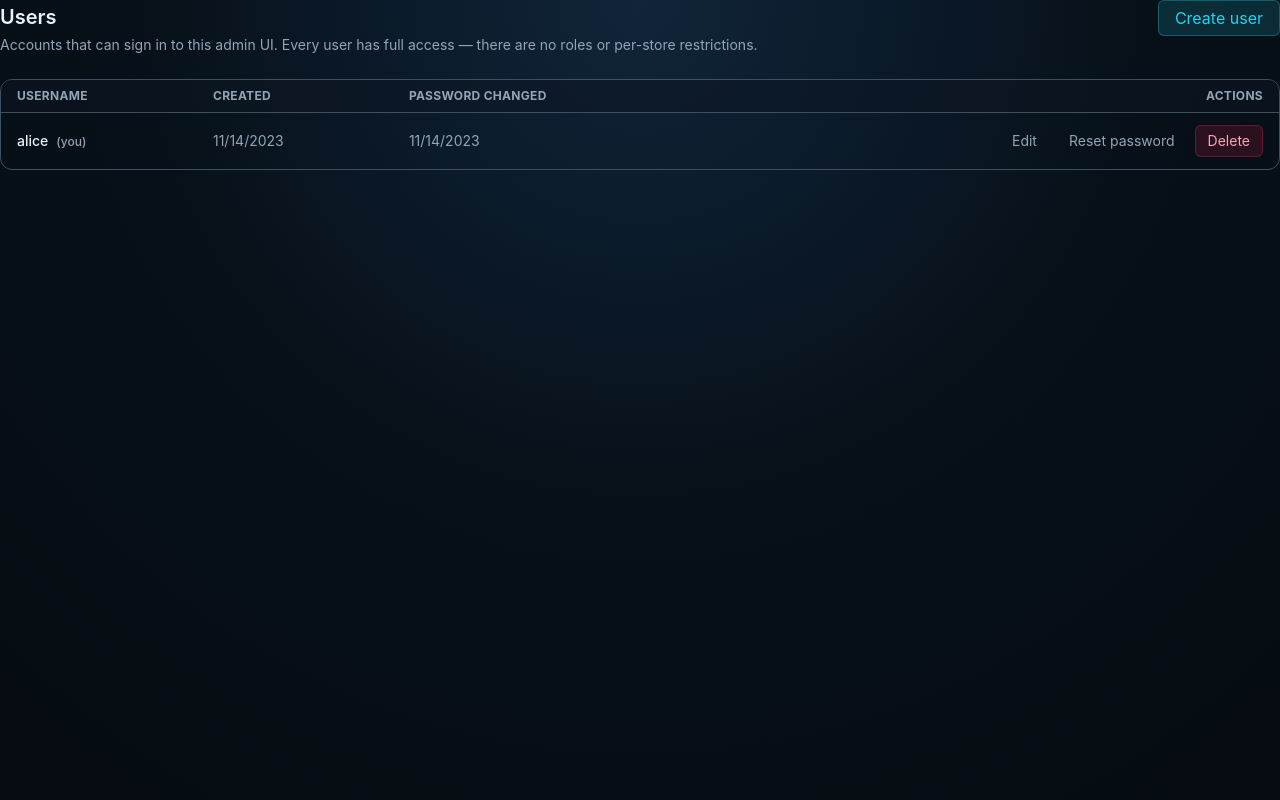
Test: UsersPage › delete dialog disables the destructive button when targeting the last user
Check: the text "alice" is shown, box x1=17 y1=132 x2=48 y2=149
// [Edit, Reset password, Delete]
Click the button "Delete": (1229, 141) x1=1195 y1=125 x2=1263 y2=157
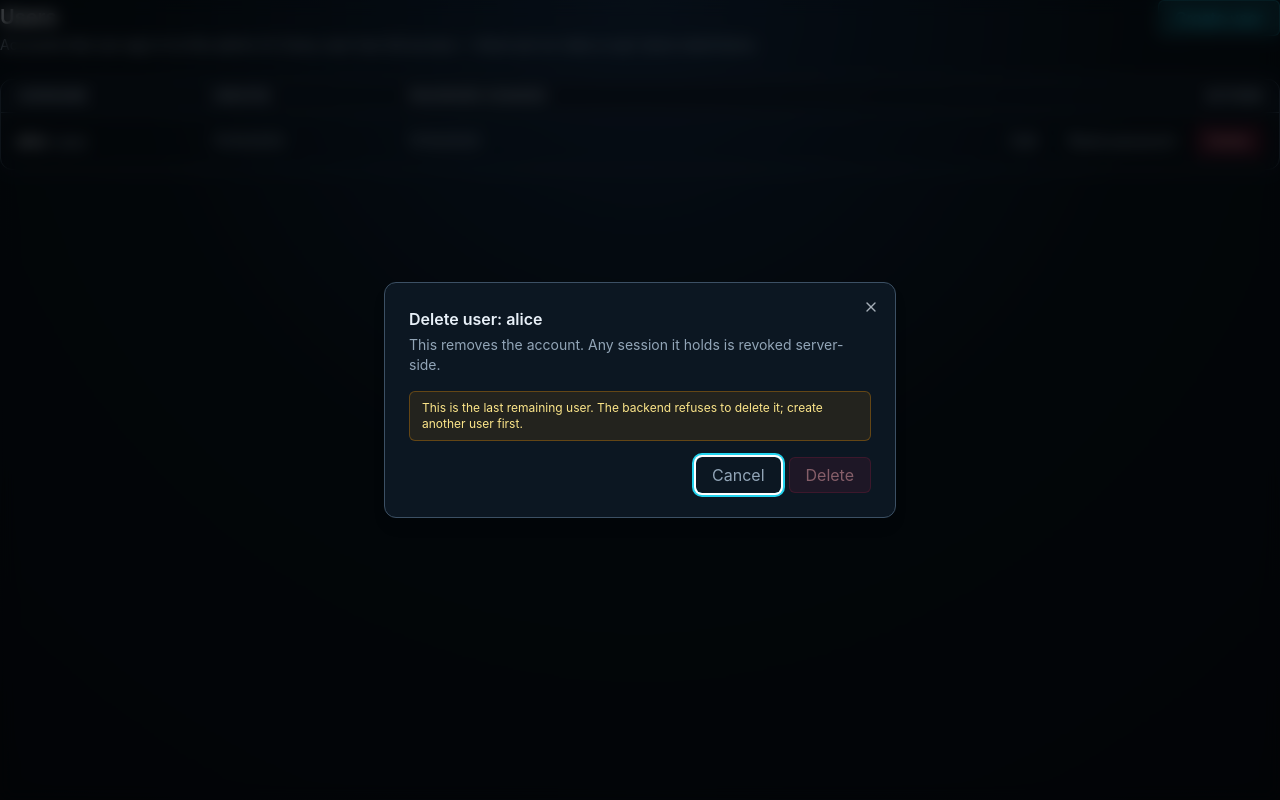
Check: the dialog "Delete user: alice" shows "last remaining user", box x1=422 y1=400 x2=823 y2=431
Check: the button "Delete" is disabled, box x1=788 y1=457 x2=871 y2=493
